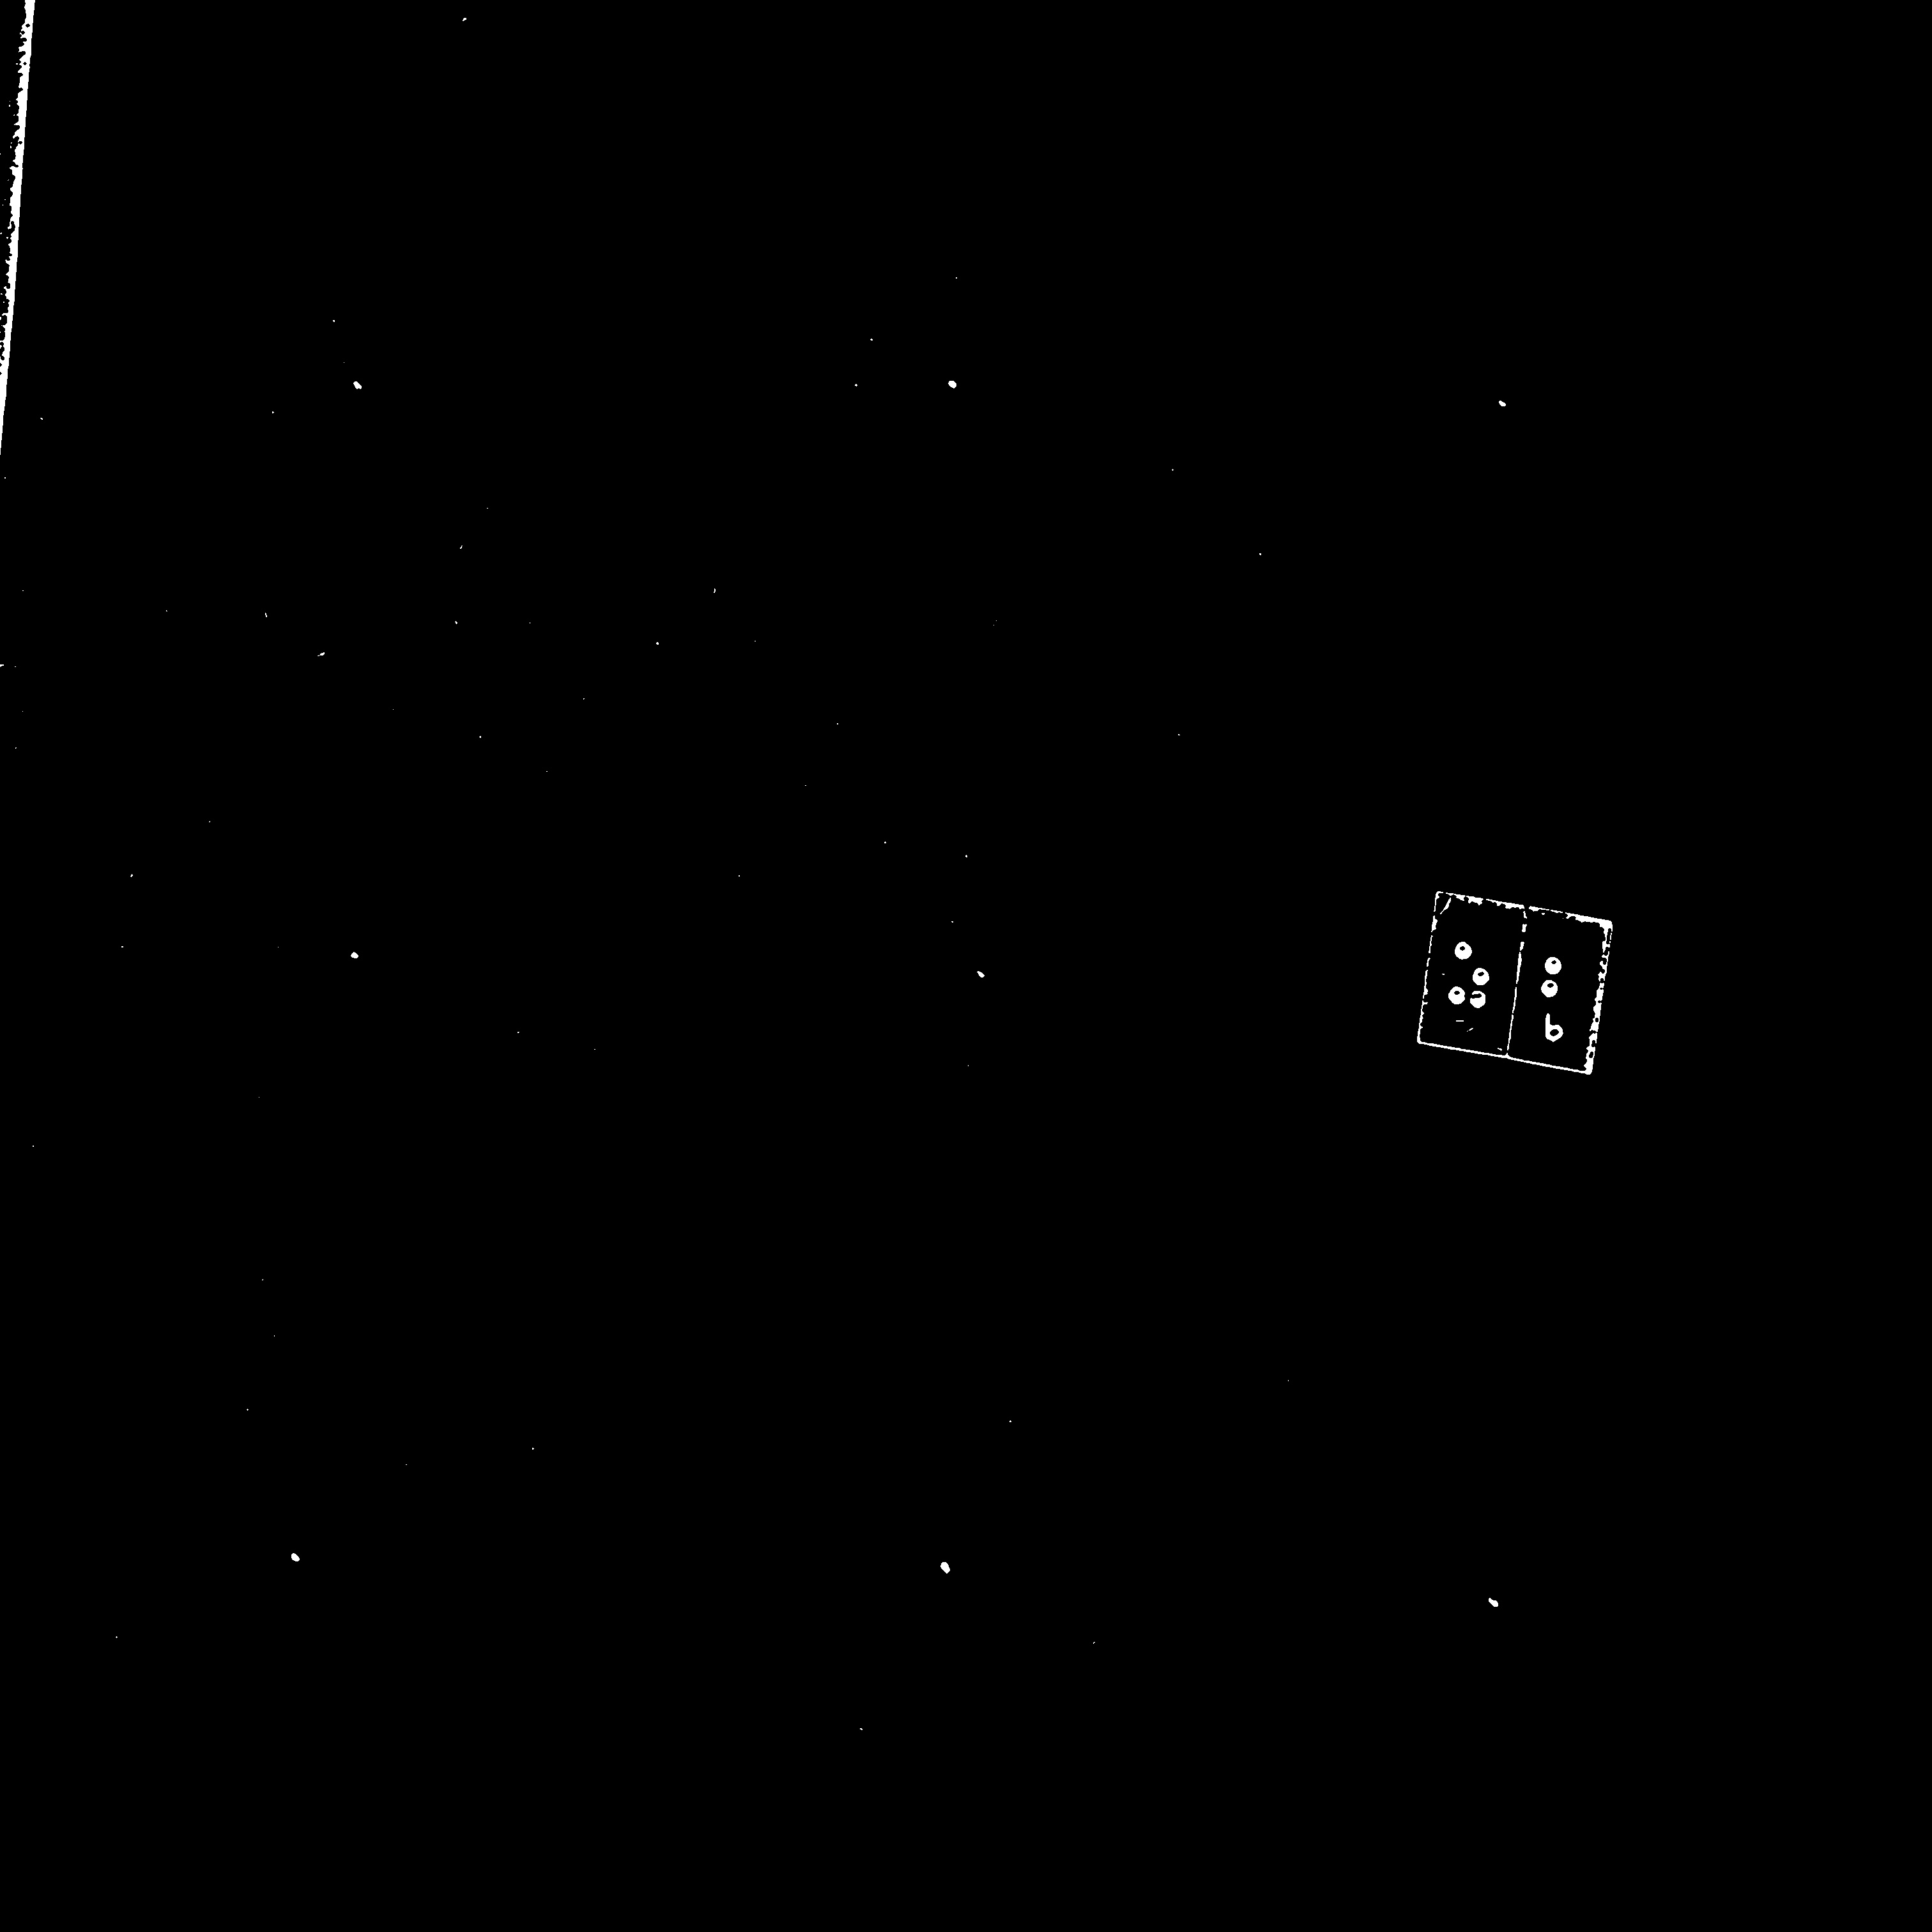b: (1536, 947, 1580, 1020)
z: (1443, 927, 1496, 1015)
